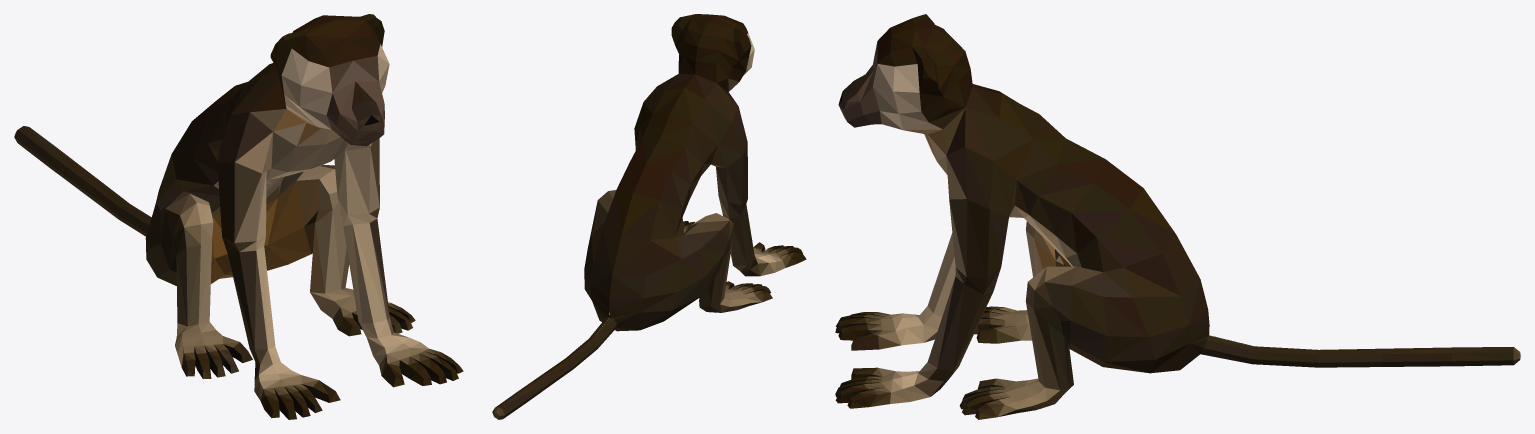
Rendered from monkey.glb.
3 views of the same model, side by side, from view 1: azimuth 30°, elevation 25°; view 2: azimuth 150°, elevation 25°; view 3: azimuth 270°, elevation 25° (orthographic). The views are drawn at different scales.
Parts seen in each view (by area): view 1: monkey; view 2: monkey; view 3: monkey.
Part boxes in pixels (x1,y1,x2,y2): monkey: (14,14,463,419); monkey: (492,14,806,419); monkey: (835,14,1520,419).
Size of the model in its own units: 3.06 by 4.49 by 8.2.
